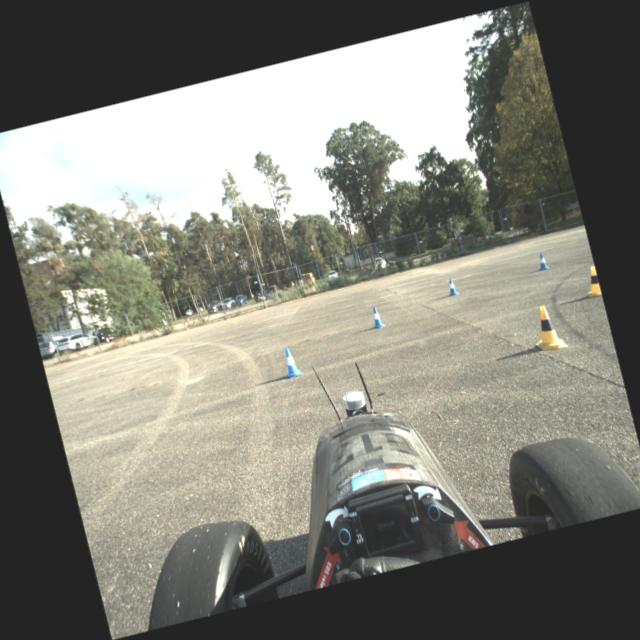blue_cone: (278, 345, 302, 379), (369, 304, 386, 330), (535, 252, 549, 271), (445, 276, 458, 296)
yellow_cone: (526, 302, 568, 354), (582, 264, 602, 298)
